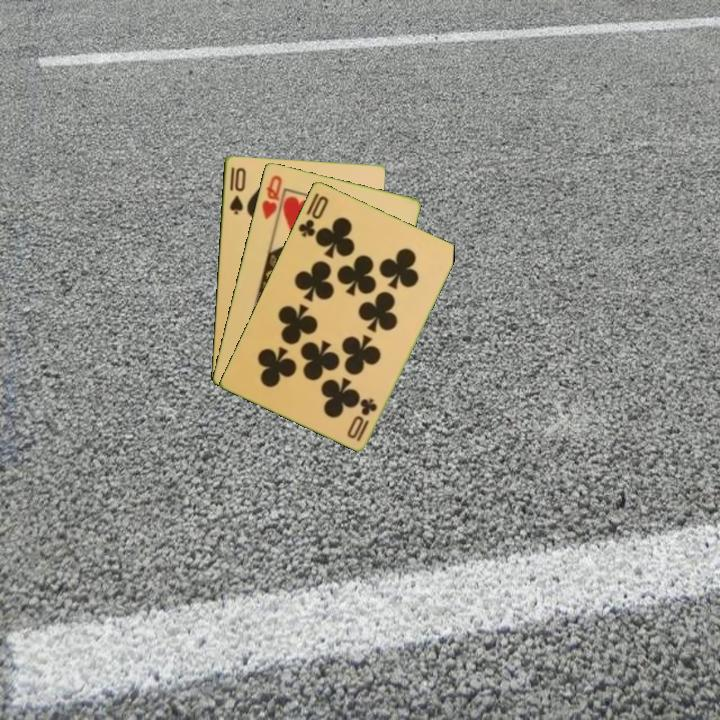10c: (295, 189, 331, 240), (344, 394, 380, 444)
10s: (226, 163, 248, 217)
Qh: (258, 171, 285, 222)
